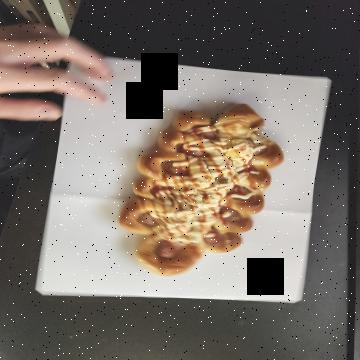pizza_bread: (100, 71, 274, 232)
